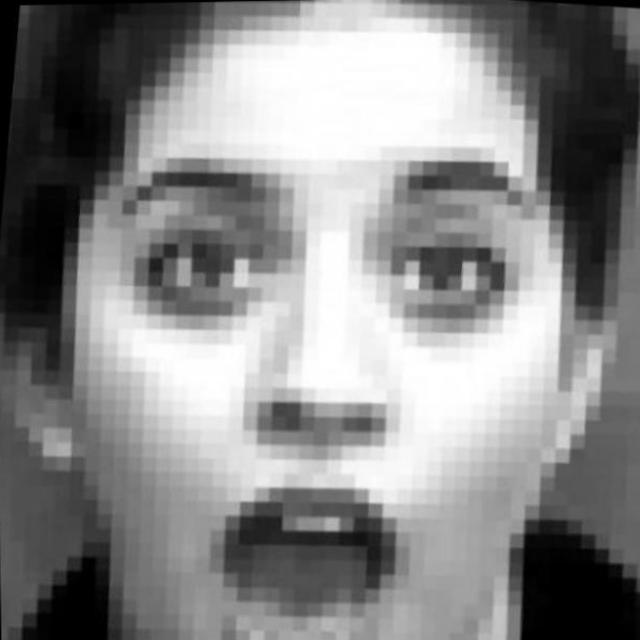Surprised: (33, 59, 578, 640)
